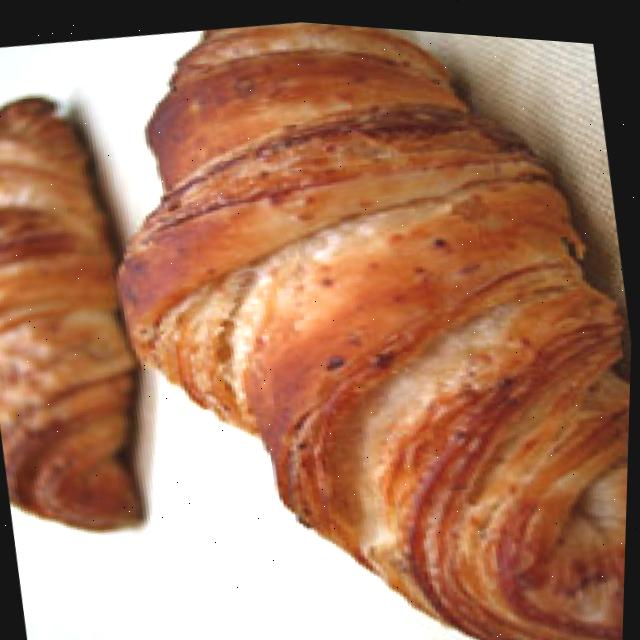面包点心: (48, 4, 640, 640)
